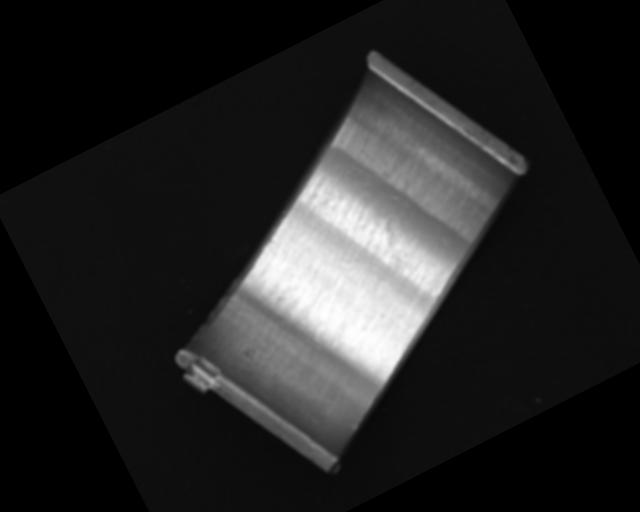nick: (343, 418, 357, 434)
